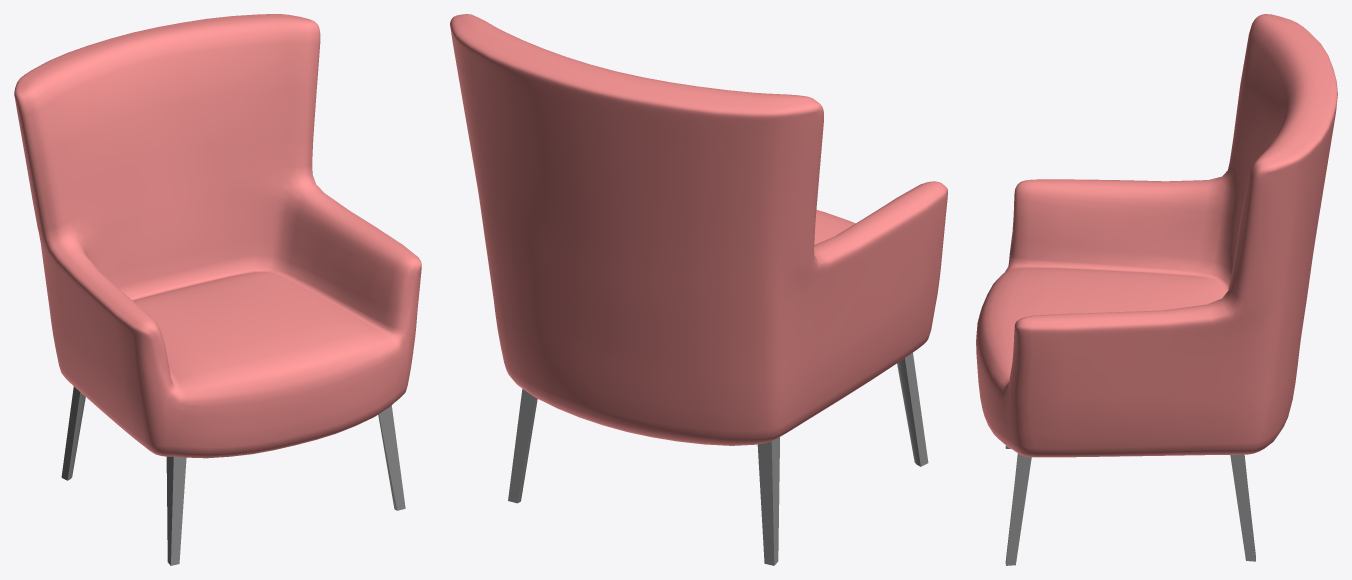
The model's file is sedia_lettura.fbx.
The picture shows the model from 3 angles, left to right: view 1: azimuth 30°, elevation 25°; view 2: azimuth 150°, elevation 25°; view 3: azimuth 270°, elevation 25°; orthographic projection. The views are drawn at different scales.
Visible parts, largest first — view 1: sedia_lettura:Subdivision_Surface; view 2: sedia_lettura:Subdivision_Surface; view 3: sedia_lettura:Subdivision_Surface.
Part boxes in pixels (box(x1,y1,x2,y2)): sedia_lettura:Subdivision_Surface: box(14, 14, 421, 565); sedia_lettura:Subdivision_Surface: box(450, 14, 947, 565); sedia_lettura:Subdivision_Surface: box(976, 14, 1337, 565).
Bounding box in the file's own units: 74.88 × 93.91 × 73.39.
